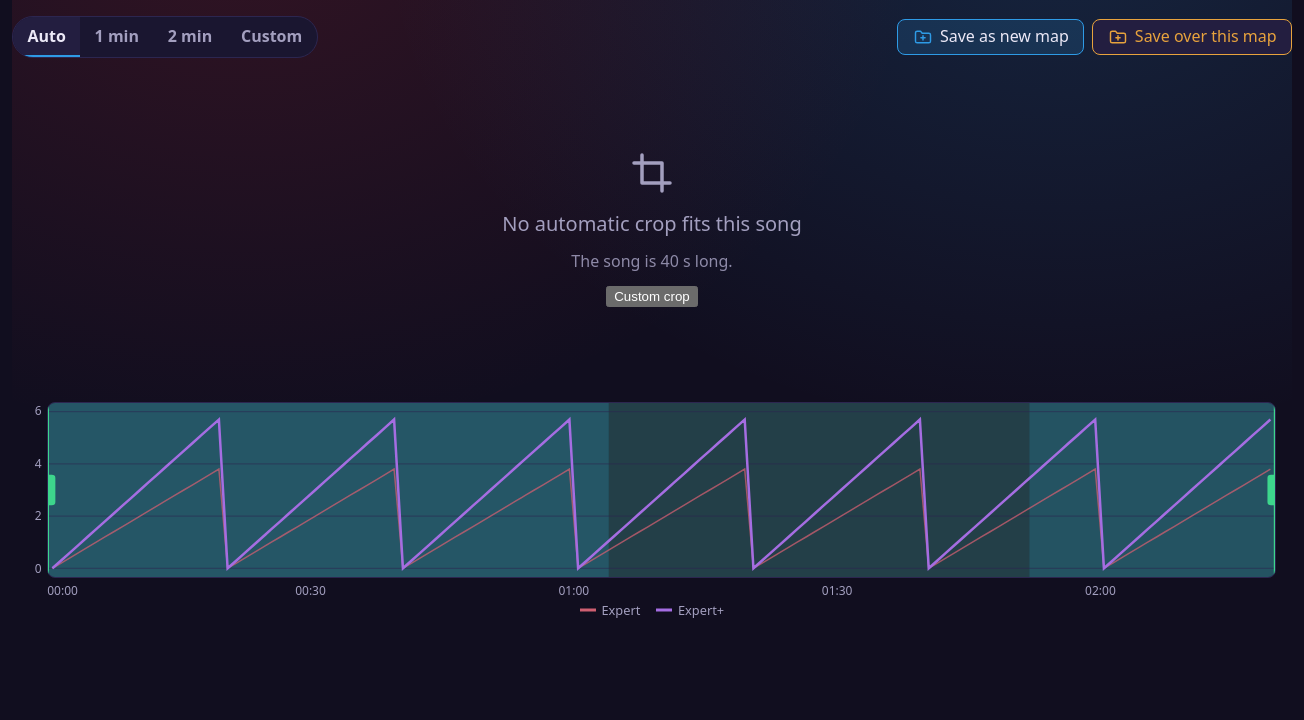
Test case: Auto crop › no candidate shows an empty state and a custom fallback
Check: the text "No automatic crop fits this song" is shown, box [502, 209, 802, 238]
Check: the text "The song is 40 s long." is shown, box [571, 250, 733, 274]
Click the button "Custom crop" at (652, 296), box [606, 286, 698, 307]
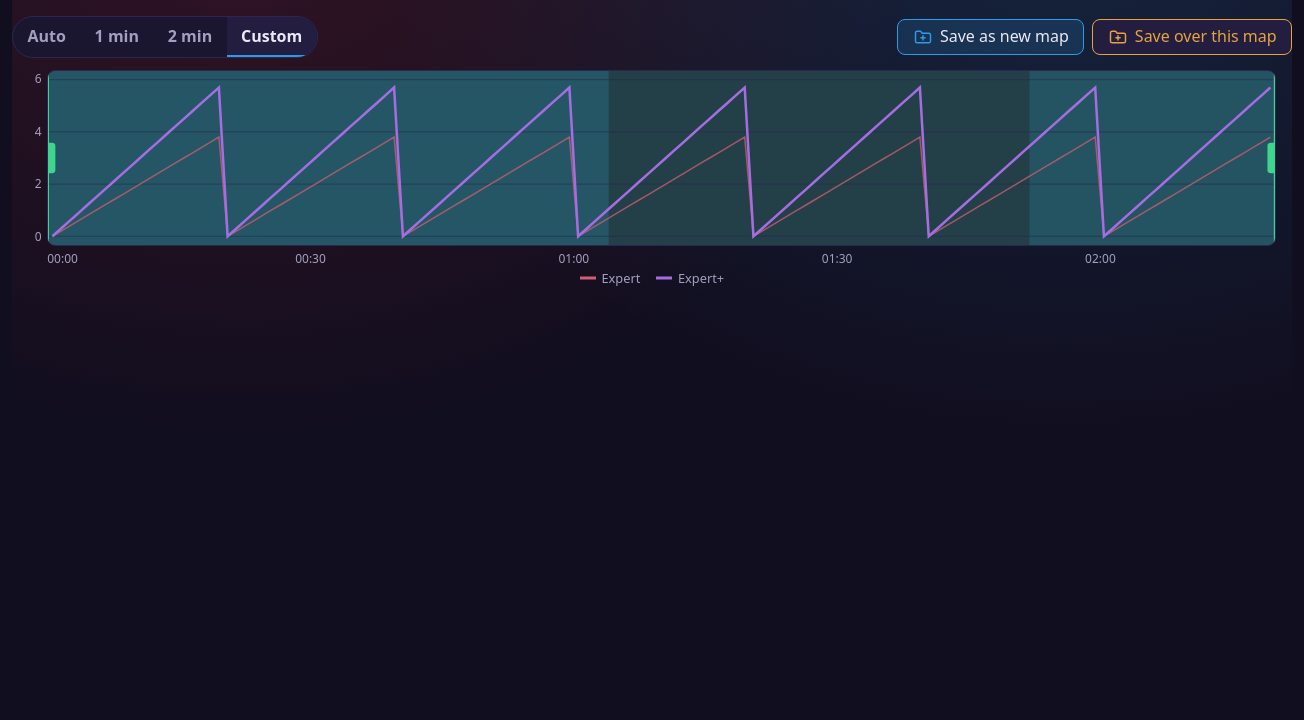
Check: the radio button labelled "Custom" is checked, box [227, 17, 317, 57]
